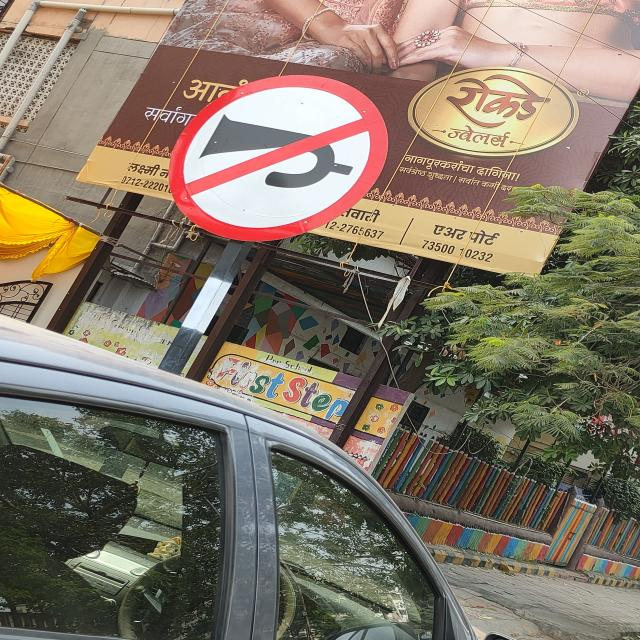HORN_PROHIBITED: (167, 74, 389, 242)
